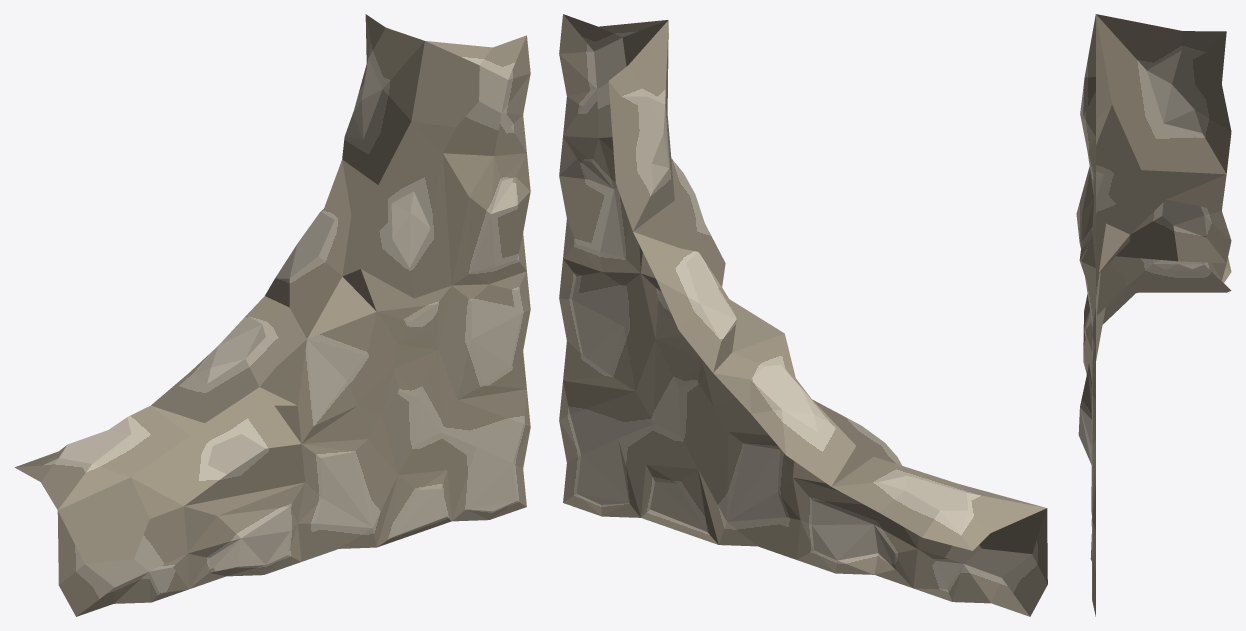
The model's file is CornerSoftArch_00.fbx.
3 renders of one model, left to right at view 1: azimuth 30°, elevation 25°; view 2: azimuth 150°, elevation 25°; view 3: azimuth 270°, elevation 25°, orthographic. The views are drawn at different scales.
Parts seen in each view (by area): view 1: CornerSoftArch_00; view 2: CornerSoftArch_00; view 3: CornerSoftArch_00.
Part boxes in pixels (<box>): CornerSoftArch_00: <box>14,14,530,616</box>; CornerSoftArch_00: <box>559,14,1047,616</box>; CornerSoftArch_00: <box>1076,14,1231,616</box>.
Bounding box in the file's own units: 210 × 210 × 53.47.
1 material, 1 textured.
